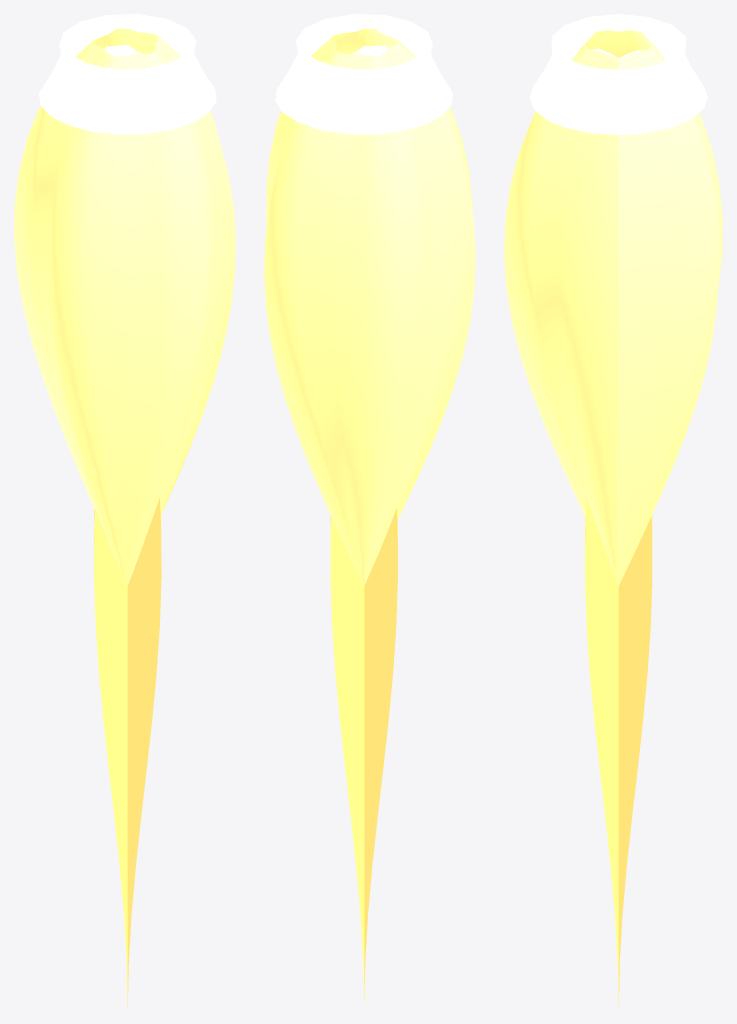
Rendered from brennoch_plume.glb.
3 views of the same model, side by side, from view 1: azimuth 30°, elevation 25°; view 2: azimuth 150°, elevation 25°; view 3: azimuth 270°, elevation 25° (orthographic).
Parts seen in each view (by area): view 1: plume_veil, plume_tail, plume_wash, plume_core; view 2: plume_veil, plume_tail, plume_wash, plume_core; view 3: plume_veil, plume_tail, plume_wash, plume_core.
Boxes of the visible parts, x1,y1,x2,y2 form: plume_veil: (14, 28, 235, 585); plume_tail: (94, 498, 161, 1007); plume_wash: (39, 16, 216, 134); plume_core: (59, 14, 196, 81); plume_veil: (264, 28, 475, 585); plume_tail: (330, 508, 397, 1005); plume_wash: (275, 16, 452, 134); plume_core: (295, 14, 432, 81); plume_veil: (504, 30, 722, 585); plume_tail: (585, 498, 652, 1005); plume_wash: (529, 16, 707, 135); plume_core: (551, 14, 685, 81).
Bounding box in the file's own units: 0.3661 × 1.78 × 0.3647.
